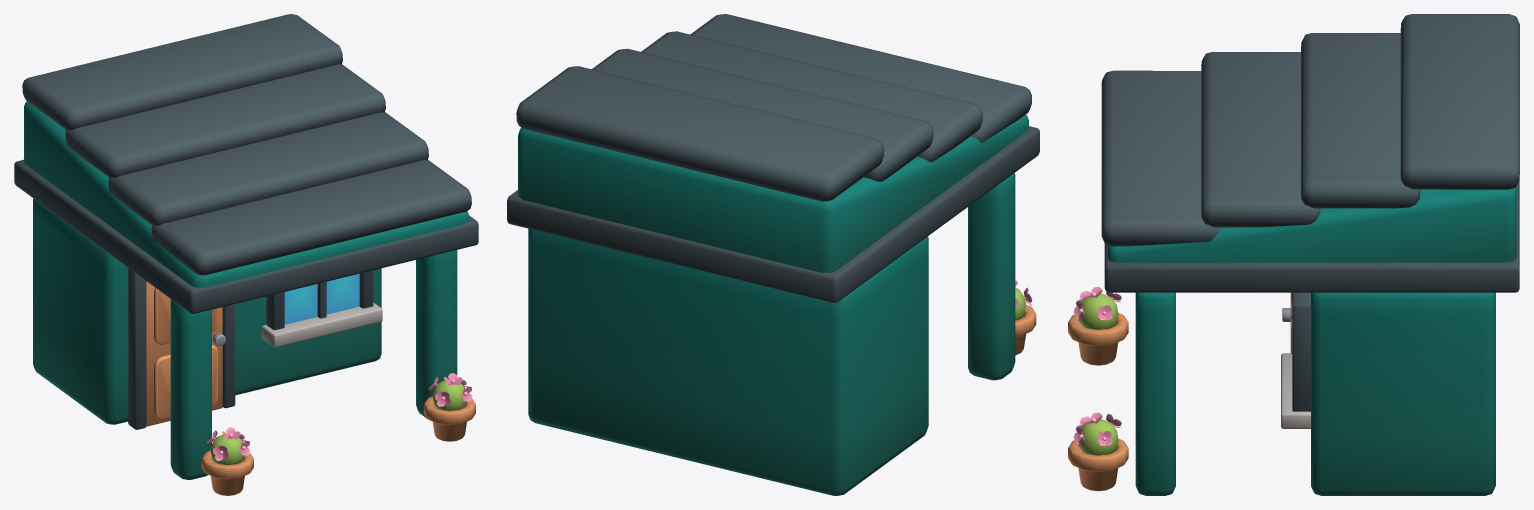
File: mct_build_full_house03.fbx
The picture shows the model from 3 angles, left to right: view 1: azimuth 30°, elevation 25°; view 2: azimuth 150°, elevation 25°; view 3: azimuth 270°, elevation 25°; orthographic projection. The views are drawn at different scales.
Parts seen in each view (by area): view 1: mct_build_full_house_03, mct_door.003; view 2: mct_build_full_house_03; view 3: mct_build_full_house_03.
Boxes of the visible parts, <box> form: mct_build_full_house_03: <box>14,14,478,495</box>; mct_door.003: <box>146,281,225,426</box>; mct_build_full_house_03: <box>507,14,1039,495</box>; mct_build_full_house_03: <box>1068,14,1519,495</box>.
Bounding box in the file's own units: 417 × 398 × 488.
